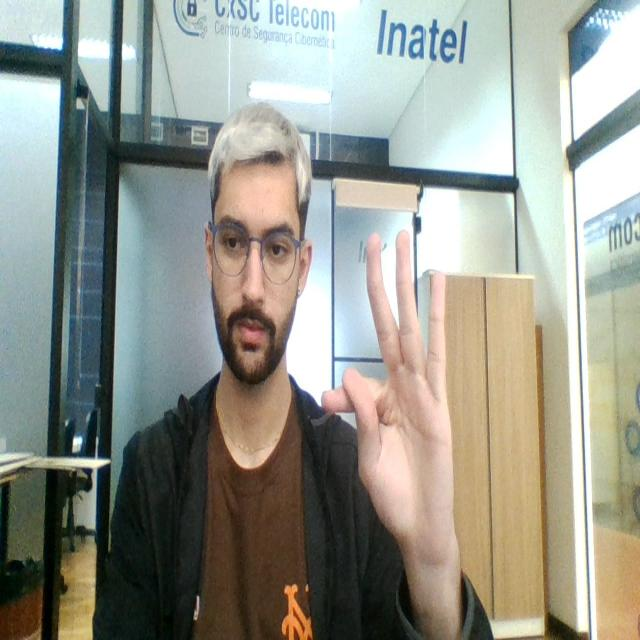T: (316, 222, 458, 558)
